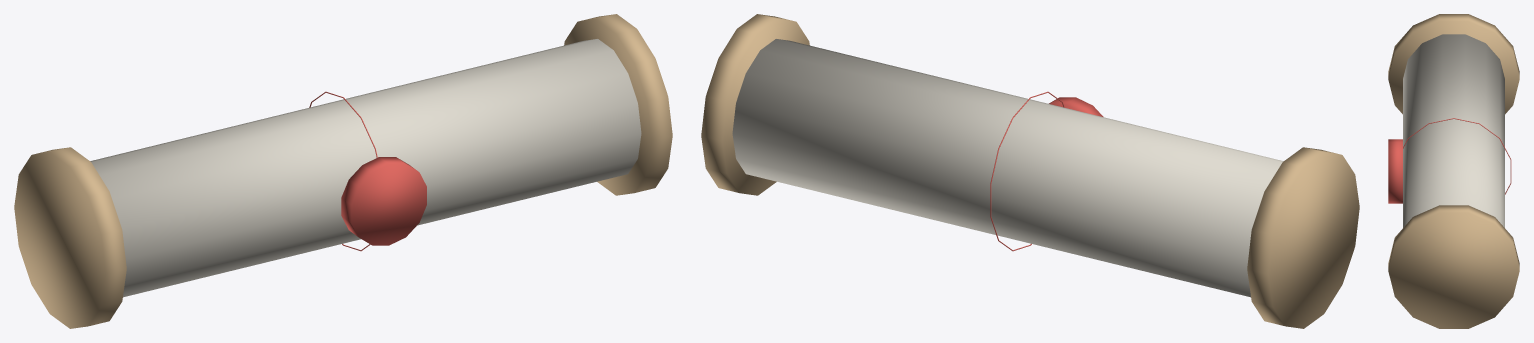
File: carta.glb
3 views of the same model, side by side, from view 1: azimuth 30°, elevation 25°; view 2: azimuth 150°, elevation 25°; view 3: azimuth 270°, elevation 25° (orthographic). The views are drawn at different scales.
Parts seen in each view (by area): view 1: carta; view 2: carta; view 3: carta.
Part boxes in pixels (x1,y1,x2,y2): carta: [14, 14, 672, 328]; carta: [701, 14, 1359, 328]; carta: [1388, 14, 1519, 328].
Size of the model in its own units: 0.322 by 0.0877 by 0.09.
